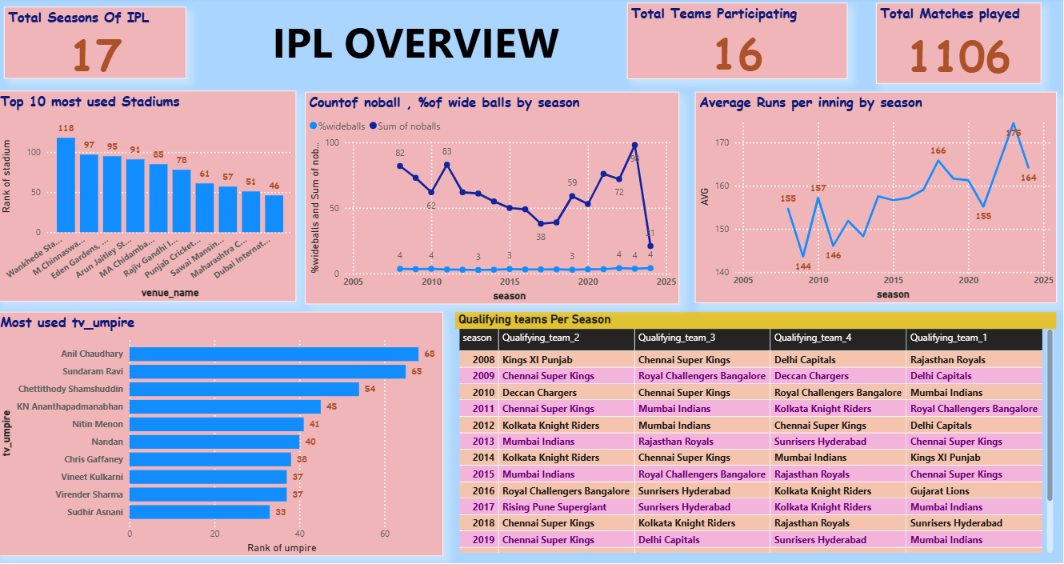

The page's visual inventory and layout, read from the dashboard file:
{"tool":"powerbi","page":{"name":"IPL OVERVIEW","canvas":[1500,800],"ordinal":0},"visuals":[{"type":"textbox","box":[349.9,17.4,479.9,88.5],"z":0},{"type":"card","title":"Total Matches played","fields":{"Values":["CountNonNull(all_season_summary.id)"]},"box":[1235.9,8,231.9,113.9],"z":1000},{"type":"card","title":"Total Seasons Of IPL","fields":{"Values":["Count(all_season_summary.season)"]},"box":[10.7,14.7,256,100.5],"z":2000},{"type":"tableEx","title":"Qualifying teams Per Season","fields":{"Values":["points_table.season","points_table.Qualifying_team_2","points_table.Qualifying_team_3","points_table.Qualifying_team_4","points_table.Qualifying_team_1"]},"box":[644.6,441.7,845.1,343.3],"z":3000},{"type":"lineChart","title":"Average Runs per inning by season","fields":{"Category":["all_season_summary.season"],"Y":["all_season_summary.AVG"]},"box":[981.9,133.2,507.8,296.5],"z":4000},{"type":"clusteredColumnChart","title":"Top 10 most used Stadiums","fields":{"Category":["all_season_summary.venue_name"],"Y":["all_season_summary.Rank of stadium"]},"box":[0,132.5,421.3,295.9],"z":5000},{"type":"lineChart","title":"Countof noball , %of wide balls by season","fields":{"Category":["all_season_bowling_card.season"],"Y":["all_season_bowling_card.%wideballs","Sum(all_season_bowling_card.noballs)"]},"box":[434.1,133.1,525.6,298.2],"z":6000},{"type":"barChart","title":"Most used tv_umpire","fields":{"Category":["all_season_summary.tv_umpire"],"Y":["all_season_summary.Rank of umpire"]},"box":[0,441.7,627.8,343.3],"z":7000},{"type":"card","title":"Total Teams Participating","fields":{"Values":["Count(points_table.name)"]},"box":[886.1,8,309.7,107.2],"z":9001}]}

Visuals, with their boxes in screenshot pixels (x1, y1, x2, y2), scaled from the page's 1500x800 canvas onto the 1064x564 screenshot:
textbox: (left=248, top=12, right=589, bottom=75)
"Total Matches played" card: (left=877, top=6, right=1041, bottom=86)
"Total Seasons Of IPL" card: (left=8, top=10, right=189, bottom=81)
"Qualifying teams Per Season" tableEx: (left=457, top=311, right=1057, bottom=553)
"Average Runs per inning by season" lineChart: (left=696, top=94, right=1057, bottom=303)
"Top 10 most used Stadiums" clusteredColumnChart: (left=0, top=93, right=299, bottom=302)
"Countof noball , %of wide balls by season" lineChart: (left=308, top=94, right=681, bottom=304)
"Most used tv_umpire" barChart: (left=0, top=311, right=445, bottom=553)
"Total Teams Participating" card: (left=629, top=6, right=848, bottom=81)
